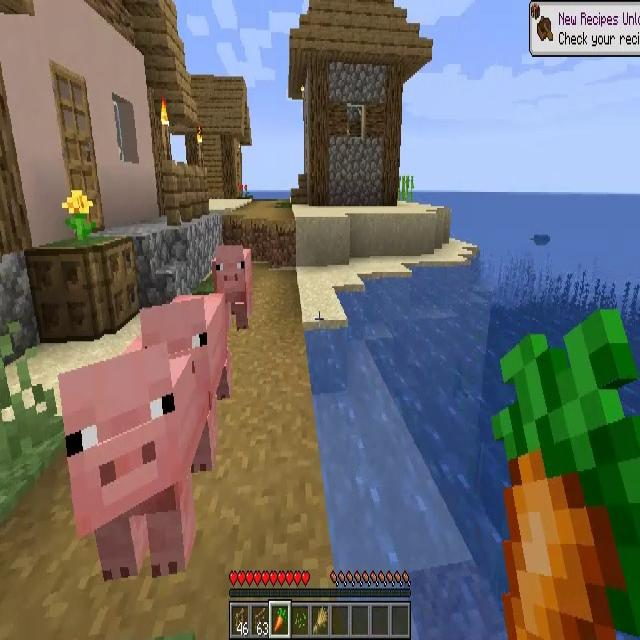flower: (63, 188, 92, 238)
pig: (63, 347, 205, 590), (145, 295, 230, 392), (214, 244, 251, 327)
